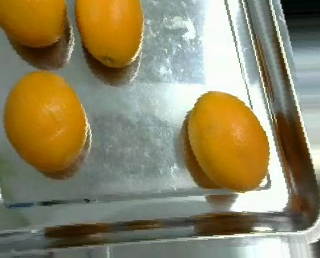Orange: (2, 69, 87, 172), (187, 90, 271, 192), (72, 1, 143, 68)
